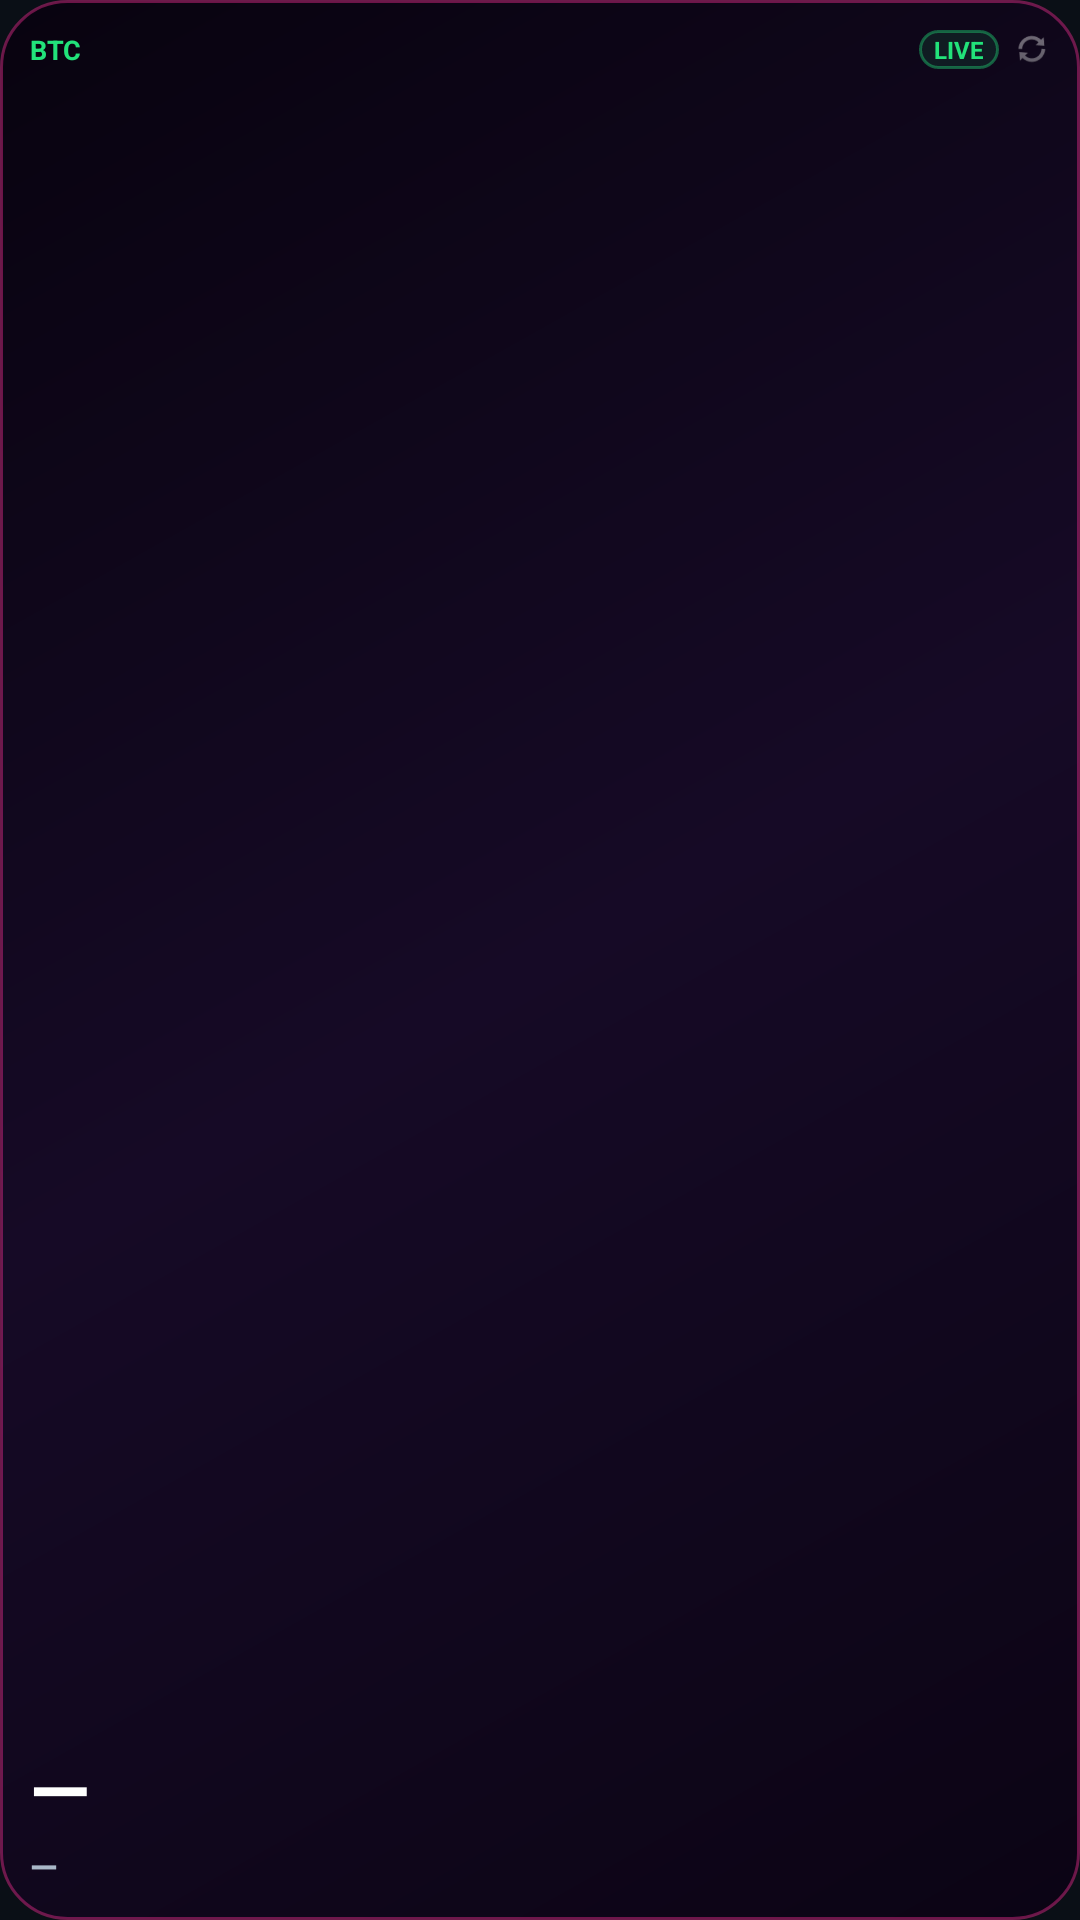

Named icons in this screenshot (1080x1920) and their centers, (x=x, y=y):
refresh: (x=1031, y=49)
